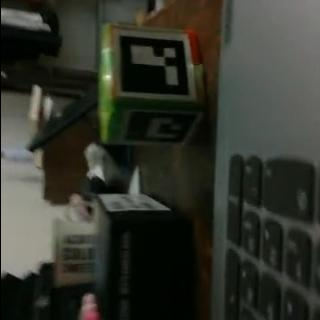armor: (110, 32, 190, 102), (118, 106, 202, 148)
robot: (95, 20, 207, 152)
